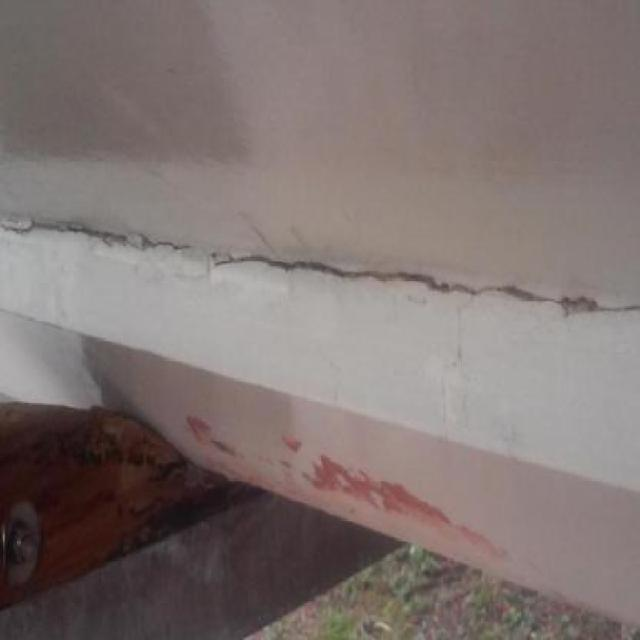crack: (0, 215, 640, 324)
